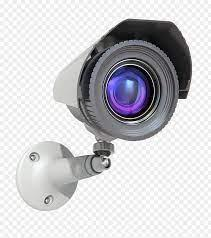tutu: (46, 15, 194, 144)
